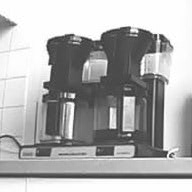not empty coffee: (91, 88, 151, 144)
